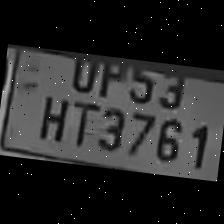1: (180, 116, 212, 169)
3: (90, 98, 127, 151), (154, 64, 188, 108)
5: (122, 57, 158, 103)
6: (148, 111, 185, 163)
7: (122, 104, 154, 157)
H: (32, 88, 70, 142)
P: (94, 54, 128, 97)
T: (65, 94, 98, 147)
U: (62, 51, 98, 93)
